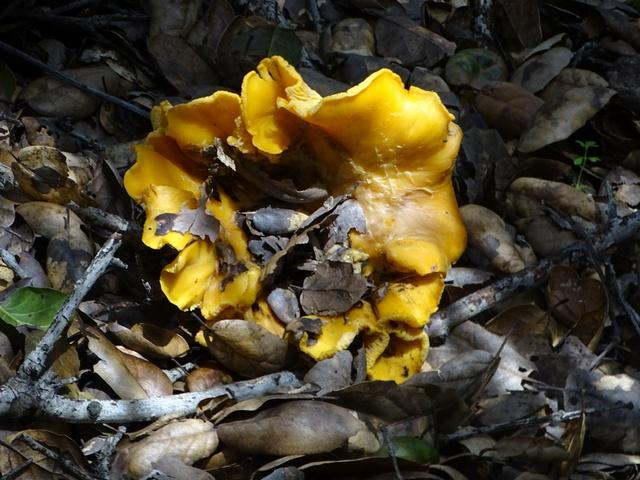edible_mushroom: (123, 54, 468, 385)
